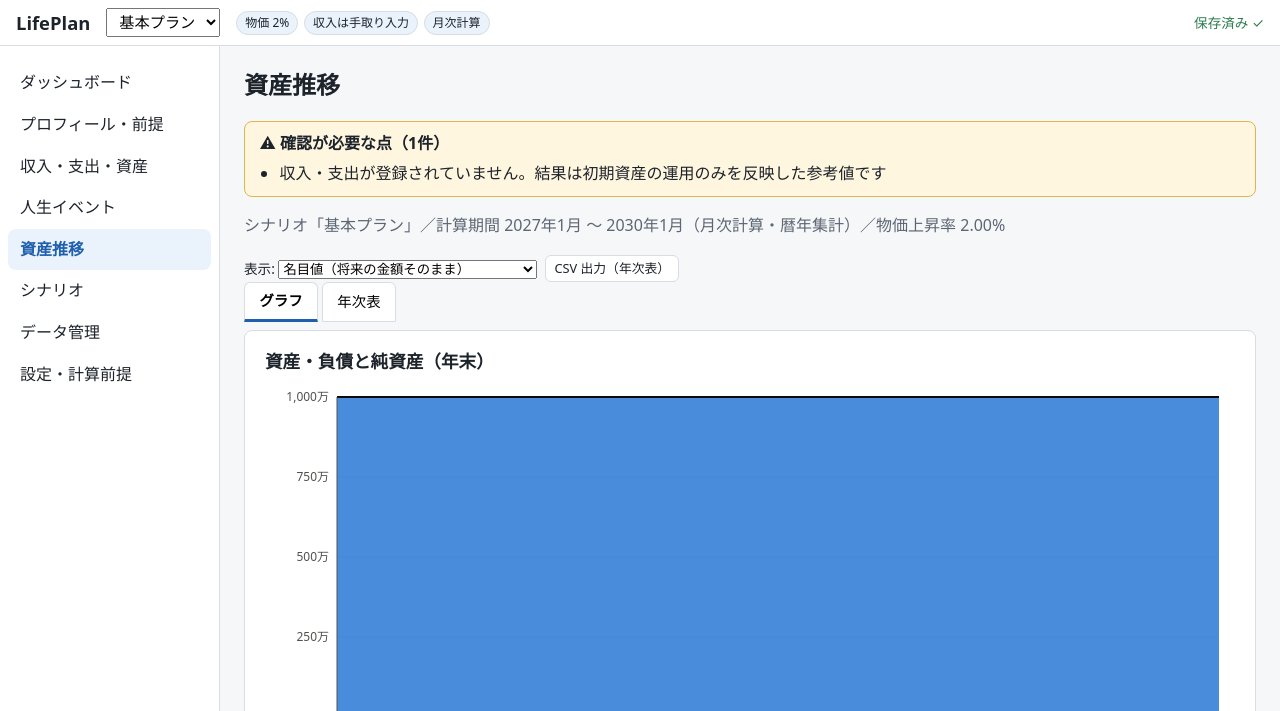
Test case: 高度な計算モデルの画面 › 名目・実質の切り替えで年次表の値が変わる（物価 2%）
The image size is (1280, 711).
Check: the message "保存済み ✓" is shown, box [1194,12,1264,34]
Click the tab "年次表". click: {"x": 359, "y": 302}
box: [322,282,396,322]
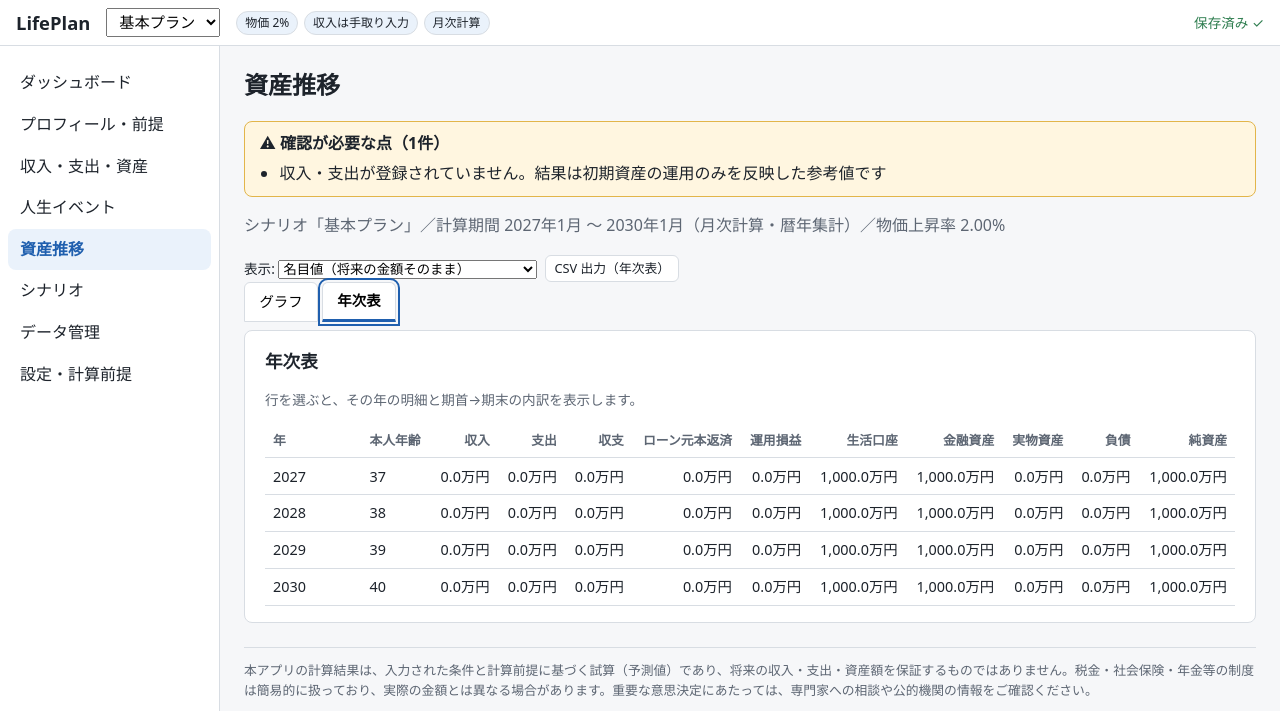
Check: the cell with test id "nw-2029" reads "1,000.0万円", box [1149,540,1227,559]
Select "real" in the dropdown named "名目・実質". click: {"x": 408, "y": 269}
box: [278,260,537,278]
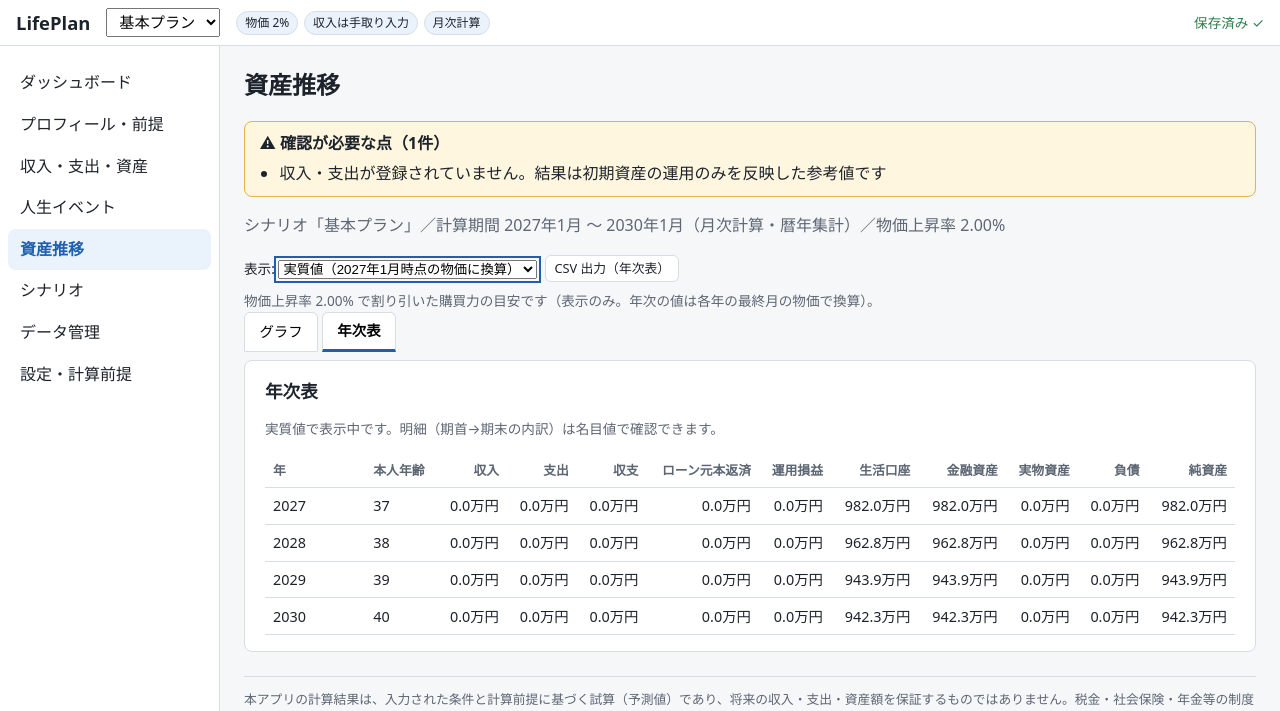
Check: the cell with test id "nw-2029" reads "943.9万円", box [1161,570,1227,589]
